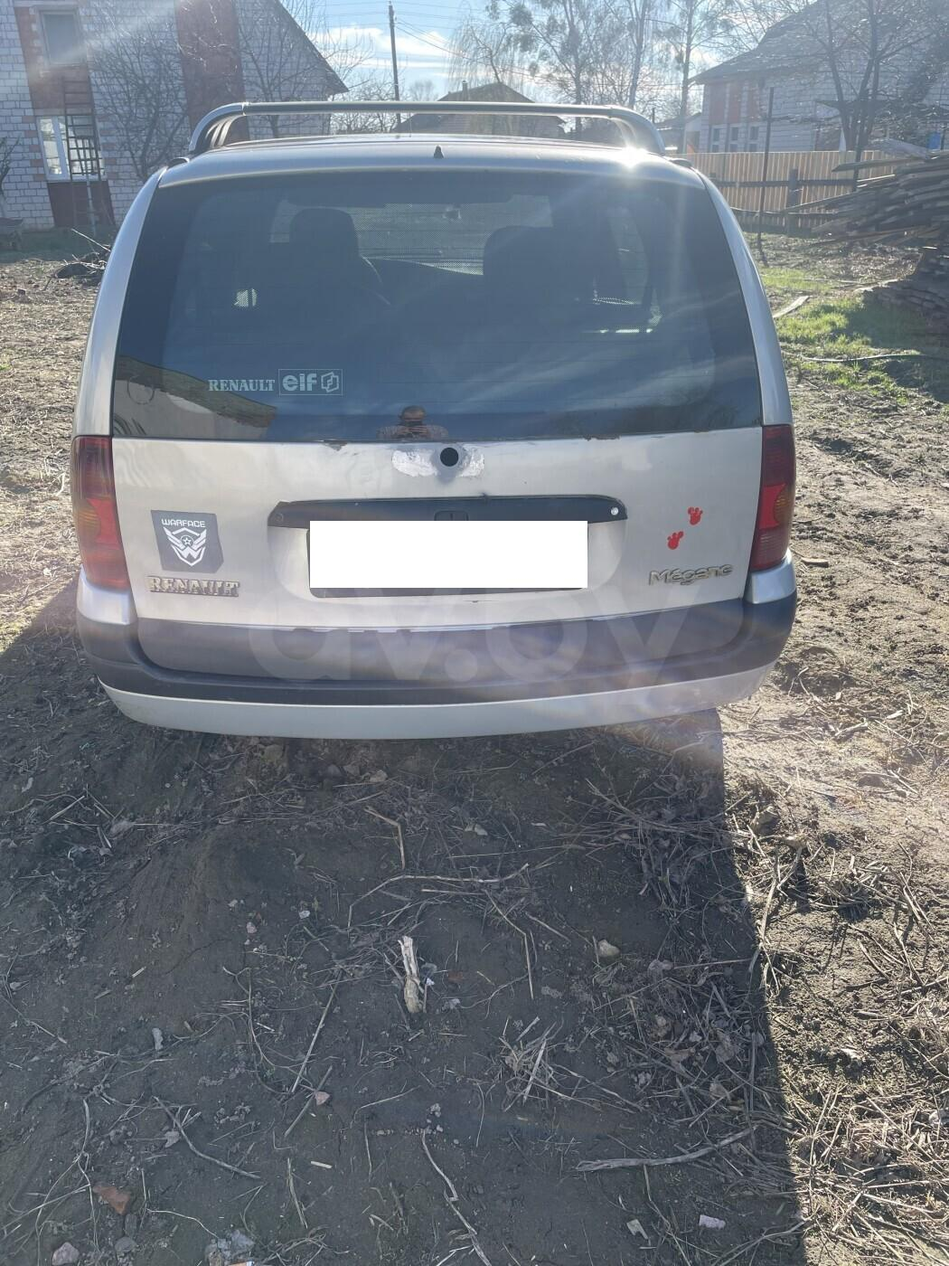Megane_1999-2003: (56, 118, 813, 734)
